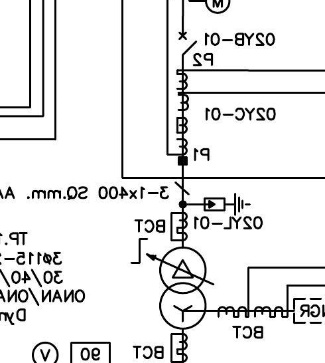11522_tx_dyn1: (159, 246, 207, 330)
115_breaker: (178, 31, 198, 56)
115_la: (203, 192, 252, 217)
